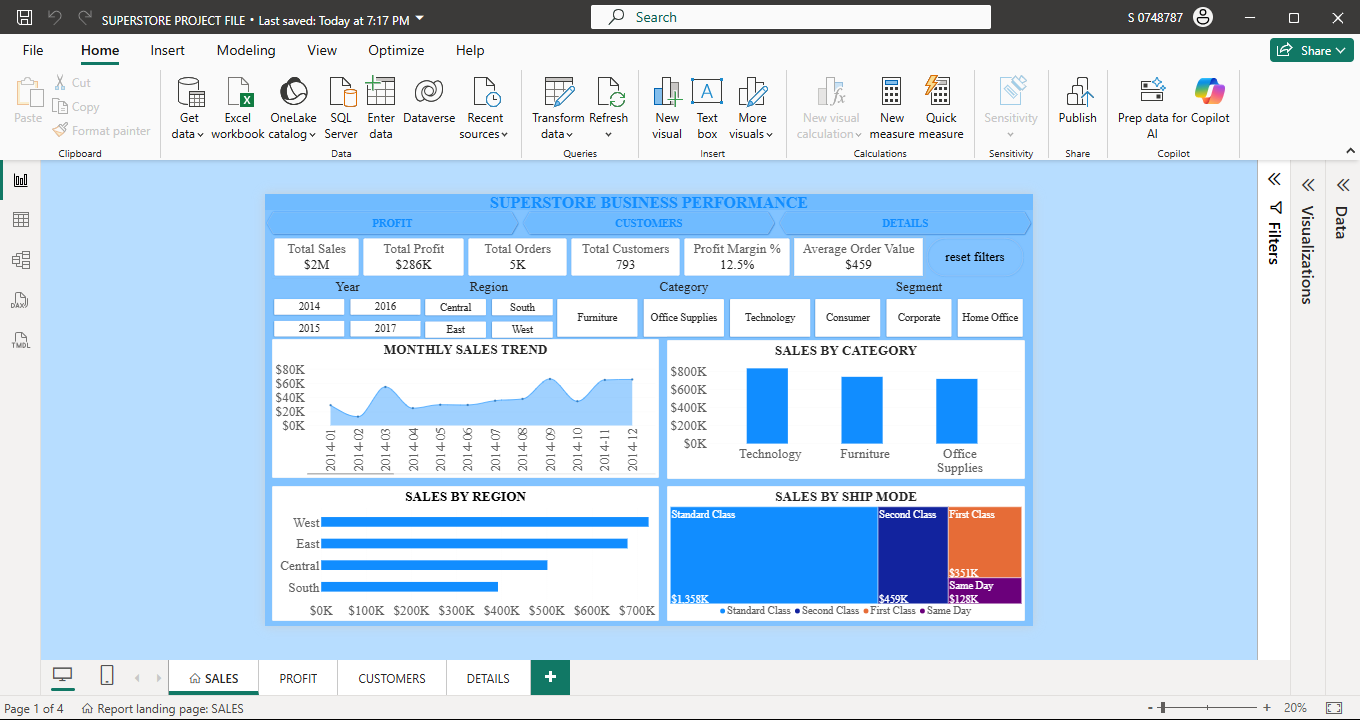

What the dashboard file says about the page in this screenshot:
{"tool":"powerbi","page":{"name":"SALES","canvas":[3840,2160],"ordinal":0},"visuals":[{"type":"cardVisual","fields":{"Data":["Date.Total Orders"]},"box":[1005,210,515,210],"z":0},{"type":"cardVisual","fields":{"Data":["Date.Total Customers"]},"box":[1520,210,565,210],"z":1000},{"type":"cardVisual","fields":{"Data":["Date.Average Order Value"]},"box":[2635,210,665,210],"z":2000},{"type":"lineChart","title":"MONTHLY SALES TREND","fields":{"Category":["Date.Year Month"],"Y":["Date.Total Sales"]},"box":[35,725,1935,695],"z":3000},{"type":"clusteredColumnChart","title":"SALES BY CATEGORY","fields":{"Category":["Sample - Superstore.Category"],"Y":["Date.Total Sales"]},"box":[2010,730,1790,695],"z":4000},{"type":"clusteredBarChart","title":"SALES BY REGION","fields":{"Category":["Sample - Superstore.Region"],"Y":["Date.Total Sales"]},"box":[35,1460,1935,675],"z":5000},{"type":"advancedSlicerVisual","fields":{"Values":["Date.Year"]},"box":[35,425,755,300],"z":6000},{"type":"advancedSlicerVisual","fields":{"Values":["Sample - Superstore.Region"]},"box":[790,425,660,305],"z":7000},{"type":"advancedSlicerVisual","fields":{"Values":["Sample - Superstore.Category"]},"box":[1450,425,1290,300],"z":8000},{"type":"advancedSlicerVisual","fields":{"Values":["Sample - Superstore.Segment"]},"box":[2740,425,1060,300],"z":9000},{"type":"textbox","title":"SUPERSTORE BUSINESS PERFORMANCE","box":[0,0,3840,80],"z":10000},{"type":"cardVisual","fields":{"Data":["Date.Total Sales"]},"box":[35,210,445,210],"z":11000},{"type":"cardVisual","fields":{"Data":["Date.Profit Margin %"]},"box":[2085,210,550,210],"z":12000},{"type":"cardVisual","title":"Total Profit","fields":{"Data":["Date.Total Profit"]},"box":[480,210,525,210],"z":13000},{"type":"pageNavigator","box":[0,80,3840,130],"z":14000},{"type":"actionButton","box":[3300,210,500,210],"z":15000},{"type":"treemap","title":"SALES BY SHIP MODE","fields":{"Group":["Sample - Superstore.Ship Mode"],"Values":["Date.Total Sales"]},"box":[2010,1460,1790,675],"z":16000}]}

Visuals, with their boxes on the page's 3840x2160 design canvas (x1, y1, x2, y2). These are canvas units, not pixel positions in the 1360x720 screenshot, which may show the page scaled, cropped or inside an application window:
cardVisual - Date.Total Orders: select_region(1005, 210, 1520, 420)
cardVisual - Date.Total Customers: select_region(1520, 210, 2085, 420)
cardVisual - Date.Average Order Value: select_region(2635, 210, 3300, 420)
"MONTHLY SALES TREND" lineChart: select_region(35, 725, 1970, 1420)
"SALES BY CATEGORY" clusteredColumnChart: select_region(2010, 730, 3800, 1425)
"SALES BY REGION" clusteredBarChart: select_region(35, 1460, 1970, 2135)
advancedSlicerVisual - Date.Year: select_region(35, 425, 790, 725)
advancedSlicerVisual - Sample - Superstore.Region: select_region(790, 425, 1450, 730)
advancedSlicerVisual - Sample - Superstore.Category: select_region(1450, 425, 2740, 725)
advancedSlicerVisual - Sample - Superstore.Segment: select_region(2740, 425, 3800, 725)
"SUPERSTORE BUSINESS PERFORMANCE" textbox: select_region(0, 0, 3840, 80)
cardVisual - Date.Total Sales: select_region(35, 210, 480, 420)
cardVisual - Date.Profit Margin %: select_region(2085, 210, 2635, 420)
"Total Profit" cardVisual: select_region(480, 210, 1005, 420)
pageNavigator: select_region(0, 80, 3840, 210)
actionButton: select_region(3300, 210, 3800, 420)
"SALES BY SHIP MODE" treemap: select_region(2010, 1460, 3800, 2135)
